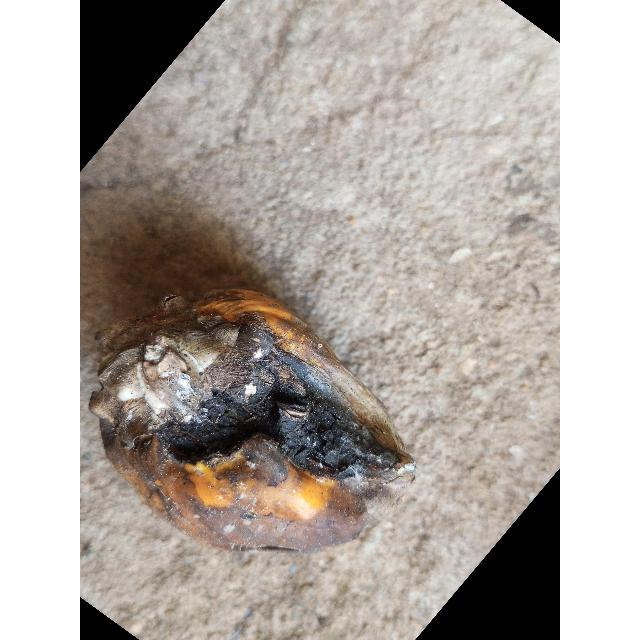damaged: (89, 290, 416, 550)
